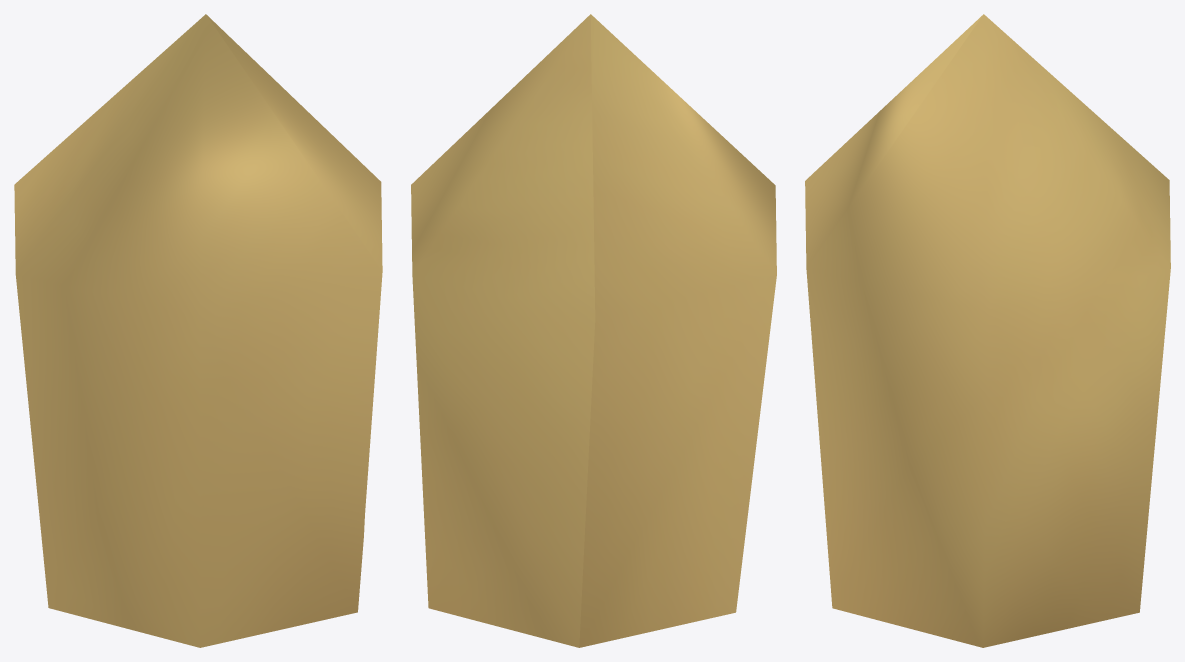
3 views of the same model, side by side, from view 1: azimuth 30°, elevation 25°; view 2: azimuth 150°, elevation 25°; view 3: azimuth 270°, elevation 25° (orthographic).
Visible parts, largest first — view 1: LOD2Bush; view 2: LOD2Bush; view 3: LOD2Bush.
Part boxes in pixels (x1,y1,x2,y2): LOD2Bush: (14, 14, 382, 647); LOD2Bush: (411, 14, 776, 647); LOD2Bush: (805, 14, 1170, 647).
Bounding box in the file's own units: 4.61 × 6.74 × 4.01.
Materials: 1 (1 with a texture image).
